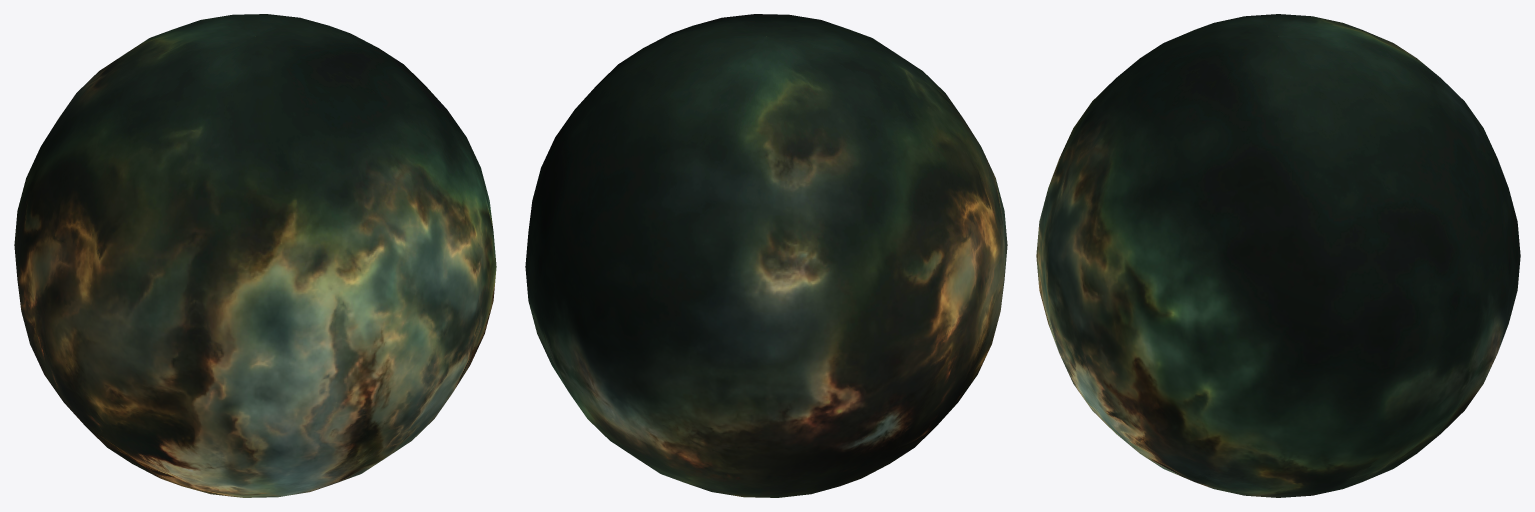
The model's file is spacesphere_SMALL.obj.
3 renders of one model, left to right at view 1: azimuth 30°, elevation 25°; view 2: azimuth 150°, elevation 25°; view 3: azimuth 270°, elevation 25°, orthographic.
Parts seen in each view (by area): view 1: spacesphere; view 2: spacesphere; view 3: spacesphere.
Boxes of the visible parts, x1,y1,x2,y2 form: spacesphere: (14,14,496,497); spacesphere: (525,14,1007,497); spacesphere: (1036,14,1520,497).
Size of the model in its own units: 40000 by 40000 by 40000.
